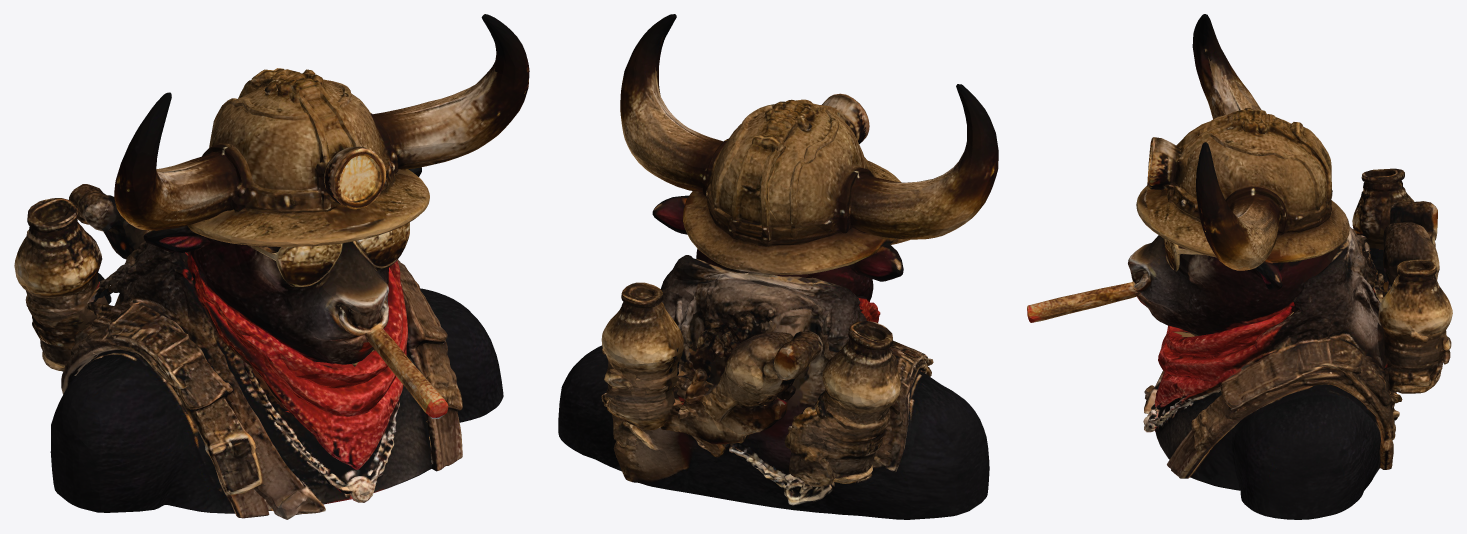
3 views of the same model, side by side, from view 1: azimuth 30°, elevation 25°; view 2: azimuth 150°, elevation 25°; view 3: azimuth 270°, elevation 25° (orthographic). The views are drawn at different scales.
Visible parts, largest first — view 1: textured_mesh; view 2: textured_mesh; view 3: textured_mesh.
Part boxes in pixels (x1,y1,x2,y2): textured_mesh: (14,14,529,519); textured_mesh: (558,14,998,519); textured_mesh: (1027,14,1452,519).
Size of the model in its own units: 1.99 by 1.82 by 1.99.
Materials: 1 (1 with a texture image).
